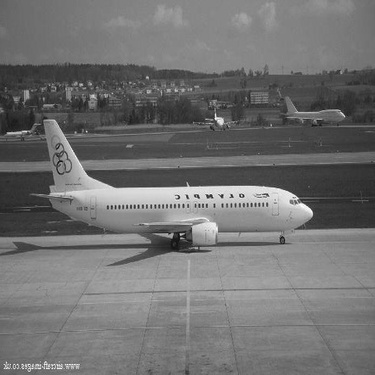airplane: (25, 108, 322, 250), (270, 94, 350, 134), (186, 105, 245, 134), (5, 113, 46, 144)
